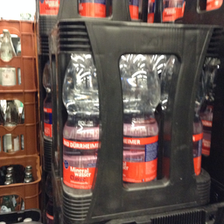water: (119, 53, 163, 183), (62, 55, 97, 194)
